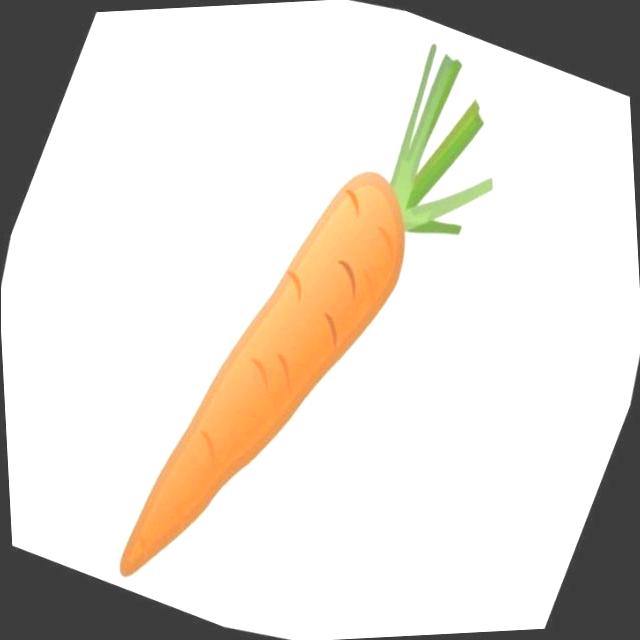carrot: (16, 83, 543, 640)
